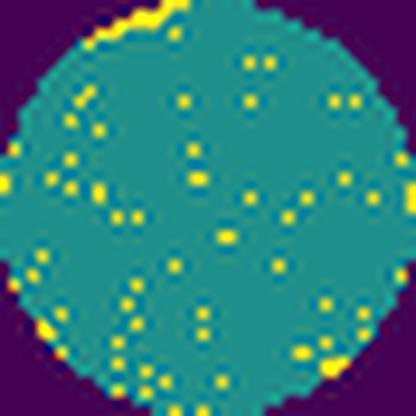Edge-Loc: (72, 0, 188, 52), (320, 351, 350, 380)
